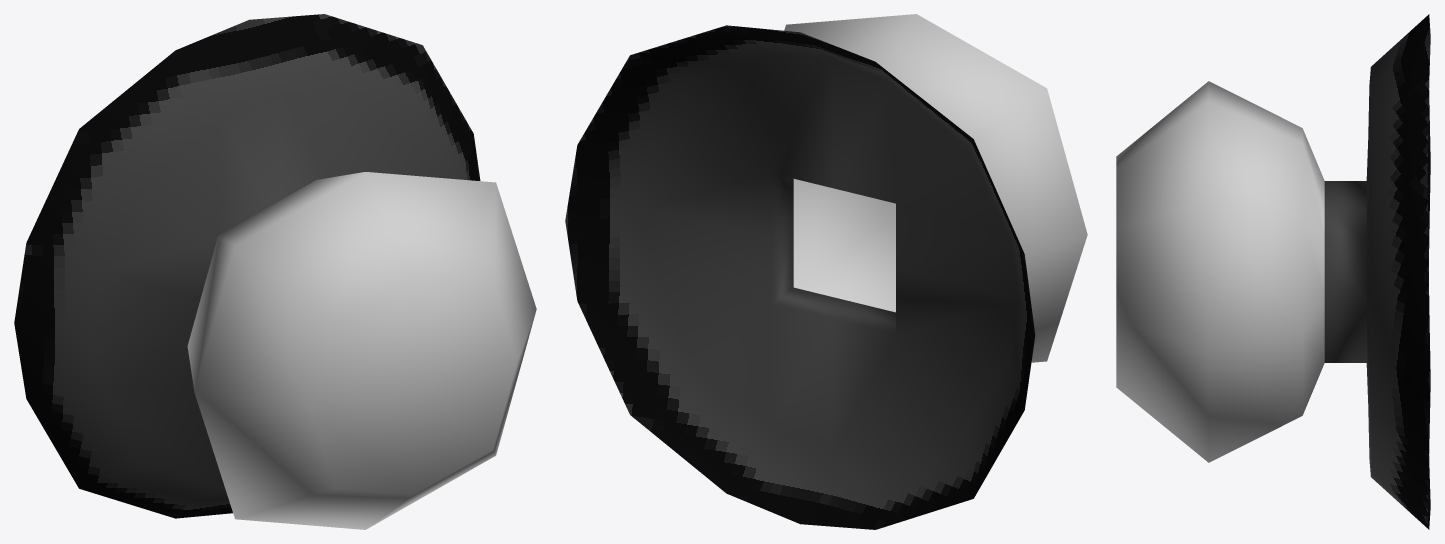
File: Detail_DoorLight.fbx
The picture shows the model from 3 angles, left to right: view 1: azimuth 30°, elevation 25°; view 2: azimuth 150°, elevation 25°; view 3: azimuth 270°, elevation 25°; orthographic projection. The views are drawn at different scales.
Parts seen in each view (by area): view 1: Cube; view 2: Cube; view 3: Cube.
Boxes of the visible parts, x1,y1,x2,y2 form: Cube: [14, 14, 536, 529]; Cube: [565, 14, 1087, 529]; Cube: [1116, 14, 1430, 529].
Bounding box in the file's own units: 0.558 × 0.558 × 0.339.
